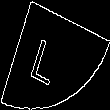L_N: (36, 25, 74, 85)
